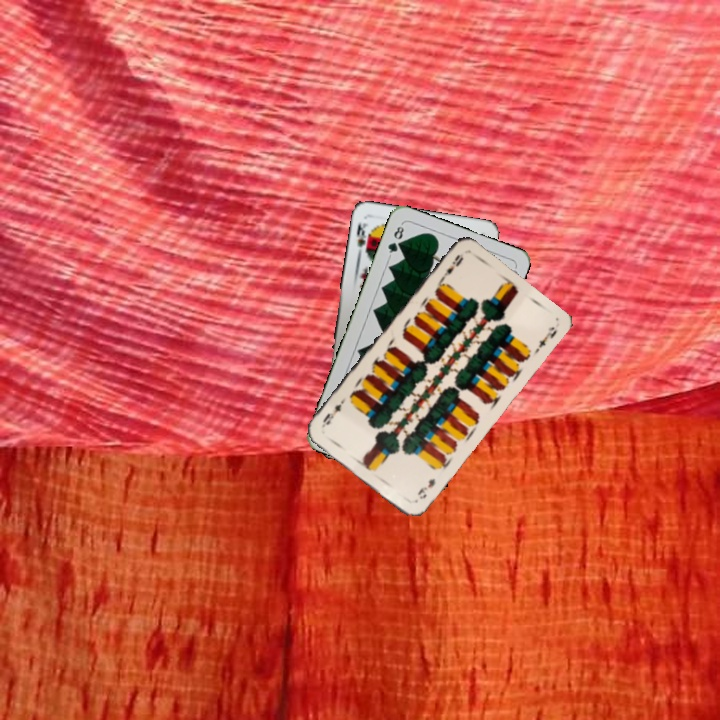E9: (436, 250, 466, 284), (413, 474, 438, 502)
G8: (384, 220, 407, 259)
SK: (353, 218, 372, 256)
